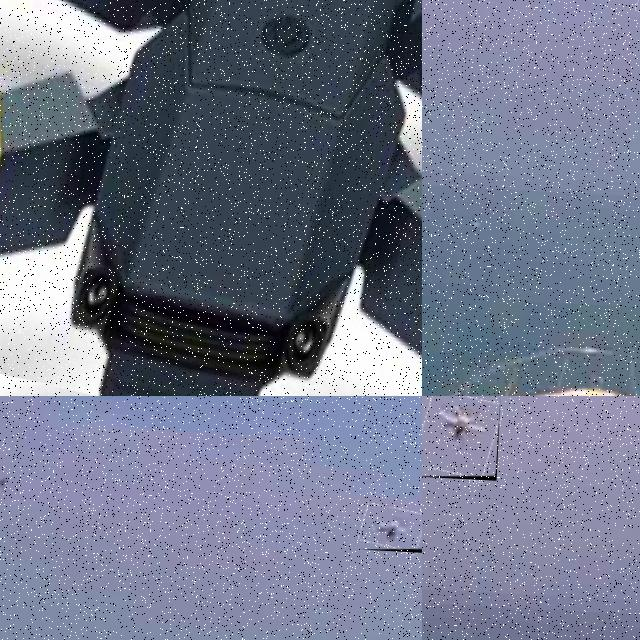0: (422, 396, 500, 481), (359, 505, 422, 552)
drone: (0, 0, 422, 396)
